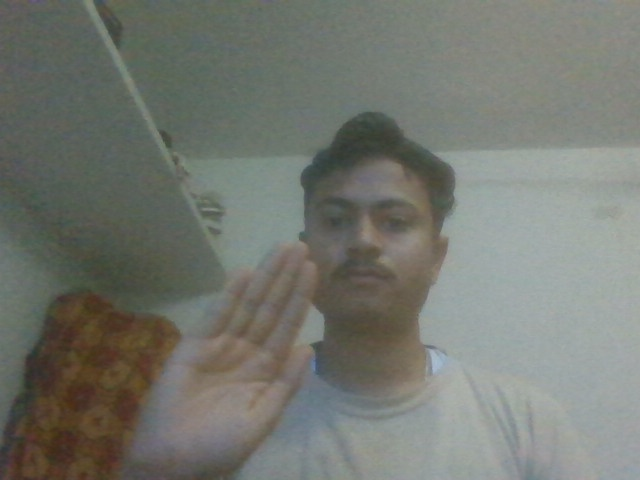Hello: (127, 230, 333, 480)
